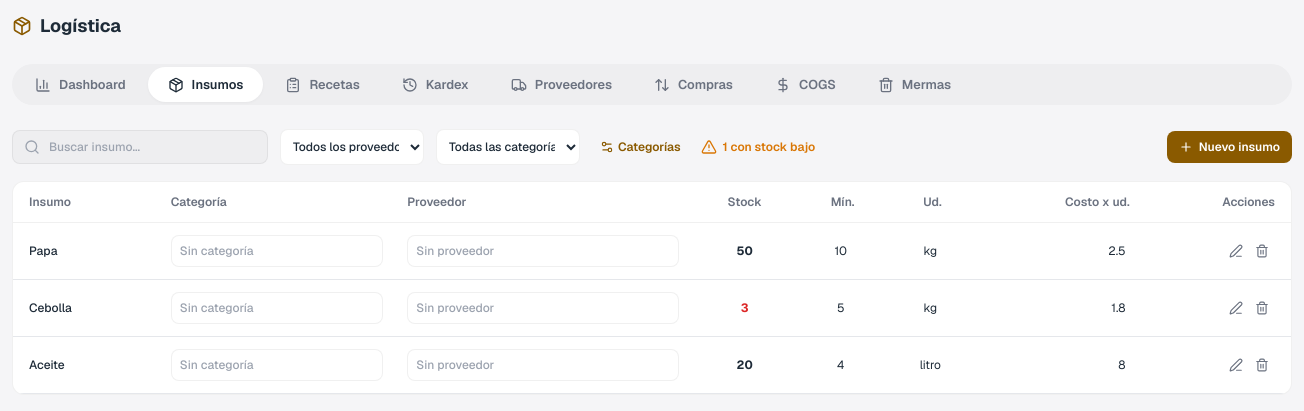
Scenario: IngredientsSection › filters ingredients by search
The image size is (1304, 411).
Expected: the text "Papa" is shown, 29,243 -> 58,259
Type "ceb" into the field with placeholder "Buscar insumo...". click: coordinates (140, 147)
box: 12,130 -> 268,164
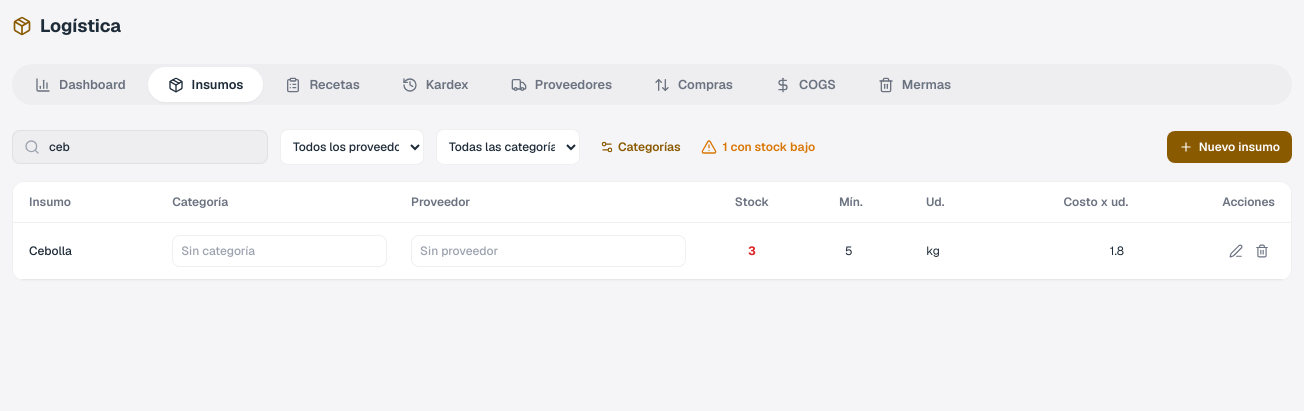
Expected: the text "Cebolla" is shown, 29,243 -> 72,259
Expected: the text "Papa" is gone
Expected: the text "Aceite" is gone
